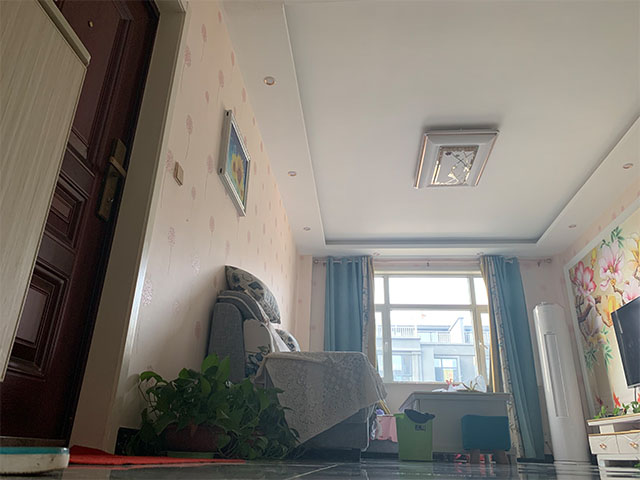cabinet: (585, 412, 640, 468)
carpet: (67, 453, 245, 466)
curtain: (475, 254, 547, 463), (296, 252, 377, 353)
sofa: (203, 265, 387, 462)
stool: (459, 413, 512, 466)
table: (397, 391, 513, 463)
trashcan: (394, 408, 436, 463)
